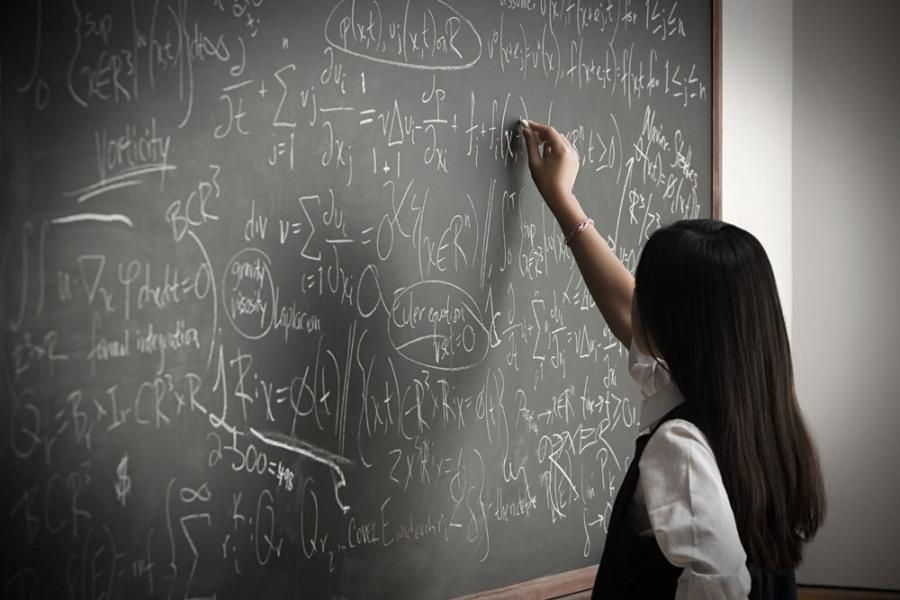person: (522, 124, 827, 598)
